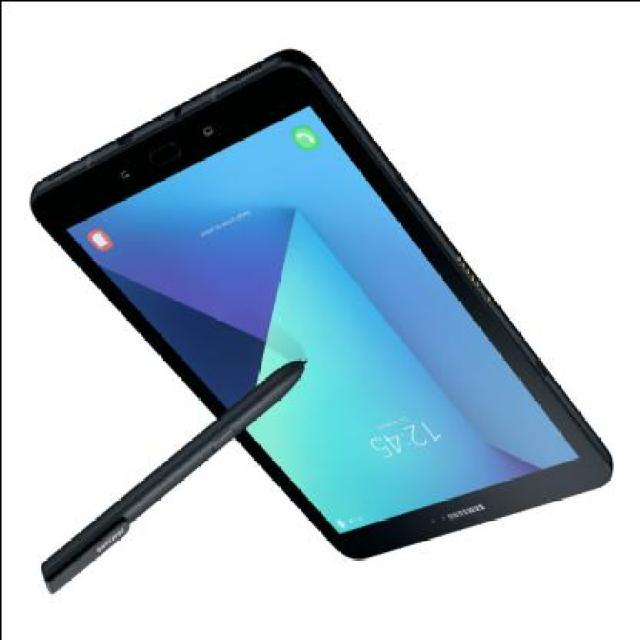tablet: (26, 52, 624, 537)
